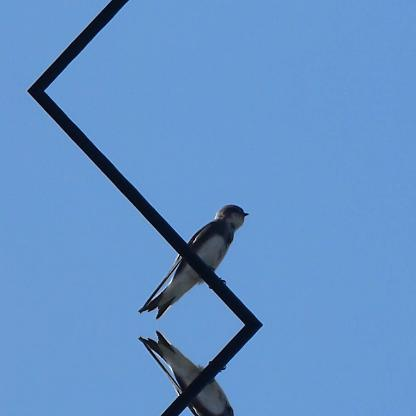Bird: (131, 199, 257, 311), (131, 339, 258, 415)
